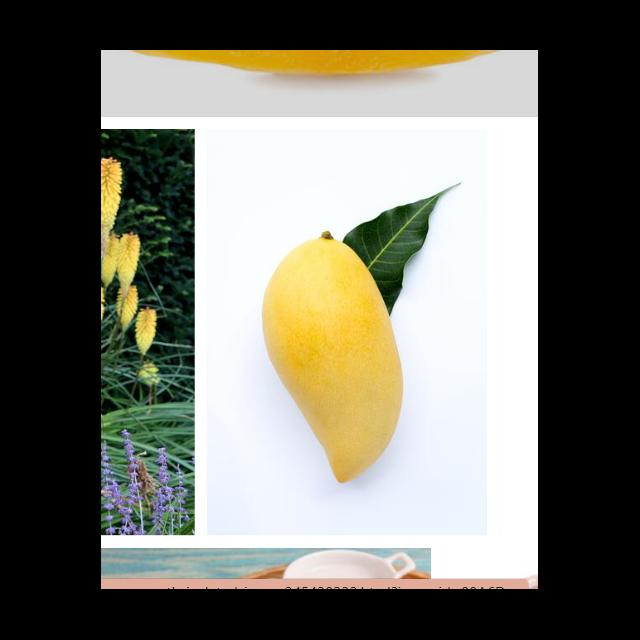mango: (264, 232, 405, 484)
